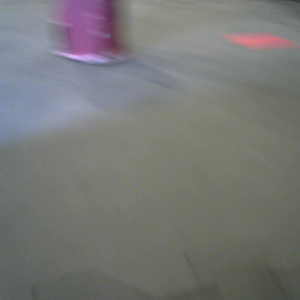right: (39, 1, 137, 78)
